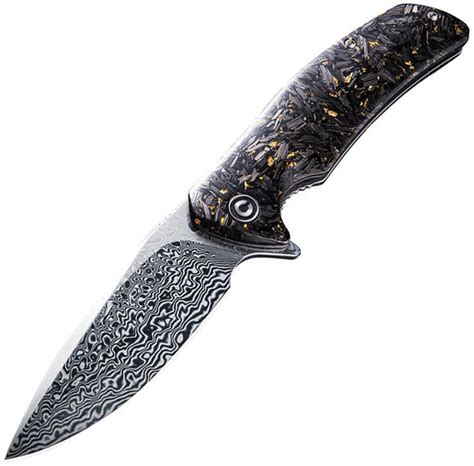knife: (5, 4, 470, 459)
